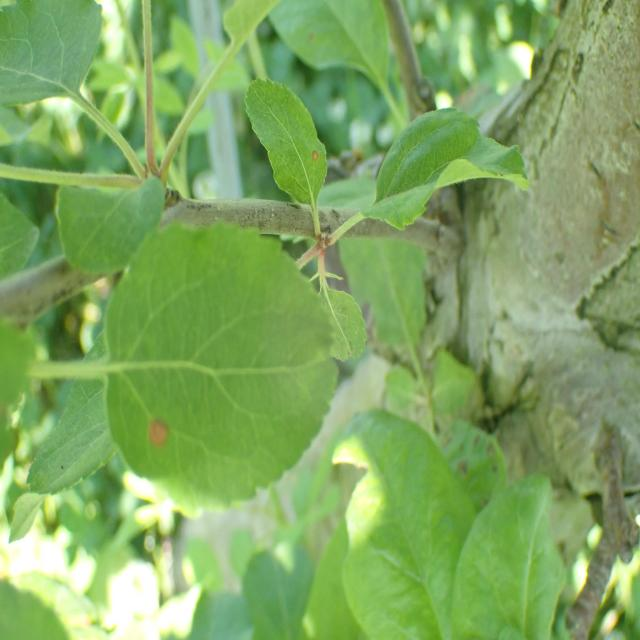Black Rot: (134, 386, 188, 473)
